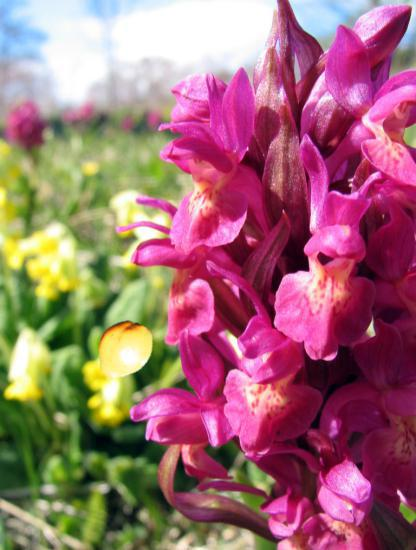Quince: (91, 319, 156, 384)
